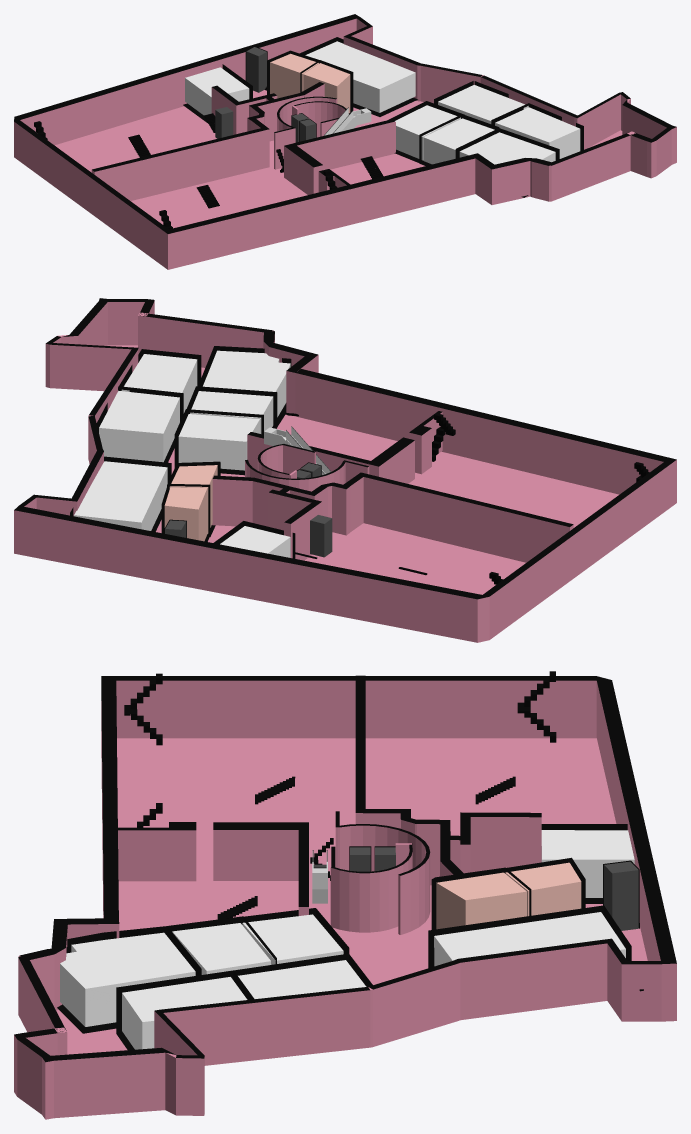
3 views of the same model, one above another, from view 1: azimuth 30°, elevation 25°; view 2: azimuth 150°, elevation 25°; view 3: azimuth 270°, elevation 25° (orthographic). The views are drawn at different scales.
Visible parts, largest first — view 1: object, room_9_2_2, room_9_2_4, room_9_2_3, room_9_2_7, room_9_2_6, room_9_2_1, room_9_2_5, トイレ_9_2_1, トイレ_9_2_2, エレベーター_9_2_4, エスカレーター_9_2_1 (+7 smaller); view 2: object, room_9_2_3, room_9_2_2, room_9_2_7, room_9_2_5, room_9_2_4, room_9_2_6, トイレ_9_2_1, room_9_2_1, トイレ_9_2_2, エレベーター_9_2_1, エスカレーター_9_2_1 (+6 smaller); view 3: object, room_9_2_5, room_9_2_2, トイレ_9_2_2, room_9_2_4, room_9_2_1, room_9_2_6, room_9_2_7, room_9_2_3, トイレ_9_2_1, エレベーター_9_2_4, object_line.003 (+10 smaller).
Boxes of the visible parts, x1,y1,x2,y2 form: object: [14, 14, 676, 269]; room_9_2_2: [305, 41, 415, 112]; room_9_2_4: [495, 107, 580, 158]; room_9_2_3: [438, 85, 528, 123]; room_9_2_7: [395, 105, 460, 160]; room_9_2_6: [423, 118, 494, 164]; room_9_2_1: [185, 67, 249, 115]; room_9_2_5: [459, 132, 555, 164]; トイレ_9_2_1: [270, 53, 318, 98]; トイレ_9_2_2: [303, 63, 350, 113]; エレベーター_9_2_4: [246, 47, 266, 92]; エスカレーター_9_2_1: [324, 107, 371, 135]; object: [14, 298, 676, 642]; room_9_2_3: [99, 390, 179, 462]; room_9_2_2: [74, 461, 167, 530]; room_9_2_7: [178, 414, 259, 470]; room_9_2_5: [203, 350, 290, 417]; room_9_2_4: [121, 354, 197, 413]; room_9_2_6: [190, 391, 273, 433]; トイレ_9_2_1: [164, 487, 207, 541]; room_9_2_1: [220, 526, 290, 557]; トイレ_9_2_2: [169, 465, 217, 533]; エレベーター_9_2_1: [310, 515, 332, 557]; エスカレーター_9_2_1: [264, 426, 331, 474]; object: [14, 675, 676, 1119]; room_9_2_5: [60, 932, 195, 1026]; room_9_2_2: [434, 912, 625, 966]; トイレ_9_2_2: [436, 872, 526, 929]; room_9_2_4: [122, 977, 247, 1049]; room_9_2_1: [541, 830, 634, 897]; room_9_2_6: [172, 923, 270, 974]; room_9_2_7: [242, 914, 343, 964]; room_9_2_3: [238, 960, 366, 998]; トイレ_9_2_1: [505, 862, 581, 916]; エレベーター_9_2_4: [604, 861, 638, 930]; object_line.003: [428, 905, 631, 968].
Bounding box in the file's own units: 2.02 × 0.2254 × 1.46.
